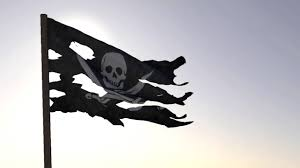Jolly Roger Flag: (36, 13, 198, 132)
